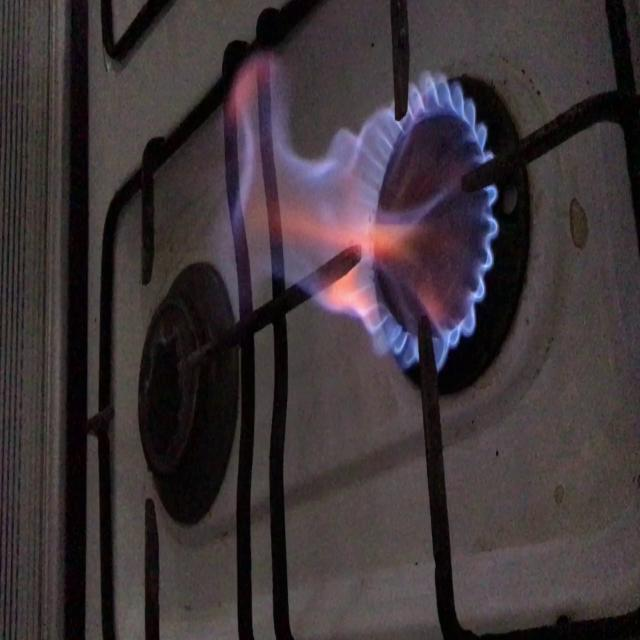fire: (218, 84, 504, 362)
